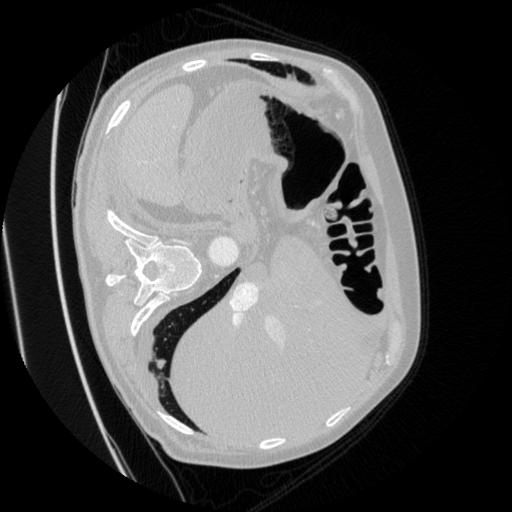nodule: (154, 357, 170, 373)
